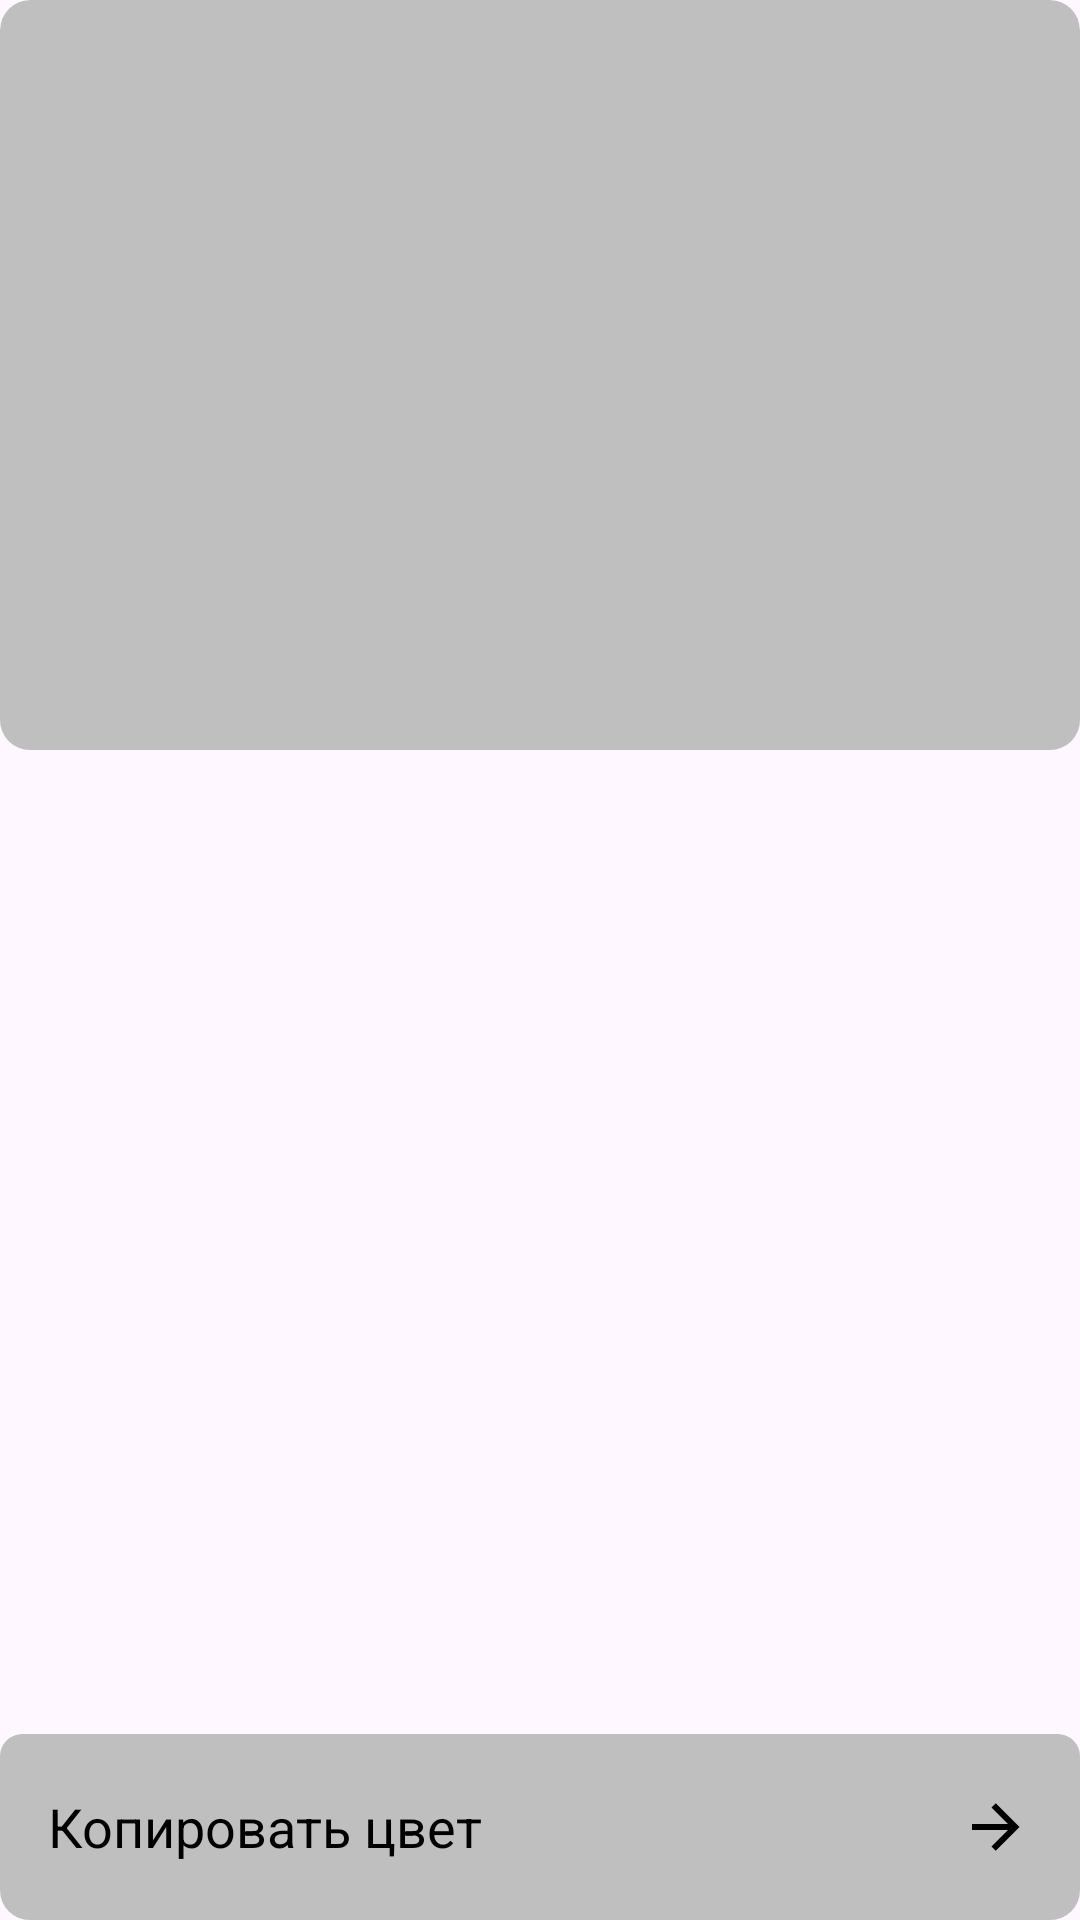

Icon click points for this 1080px×1920px phone screenshot, format point (x, y):
arrow right: point (995, 1827)
